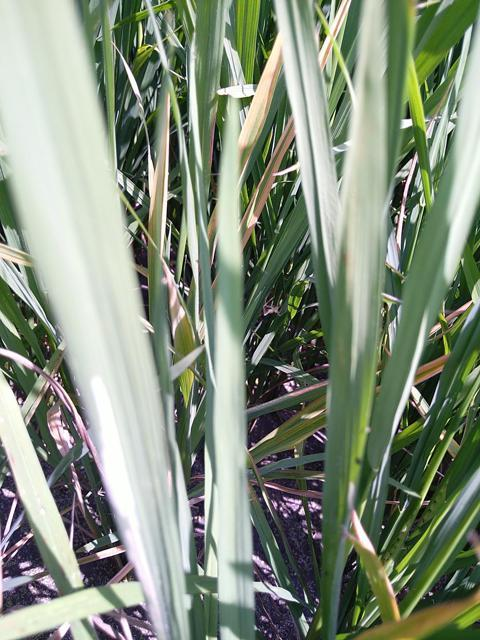Leaf Blight: (240, 117, 295, 249), (350, 591, 479, 639), (238, 36, 282, 171), (349, 510, 401, 624), (148, 91, 174, 267), (165, 264, 200, 365)
